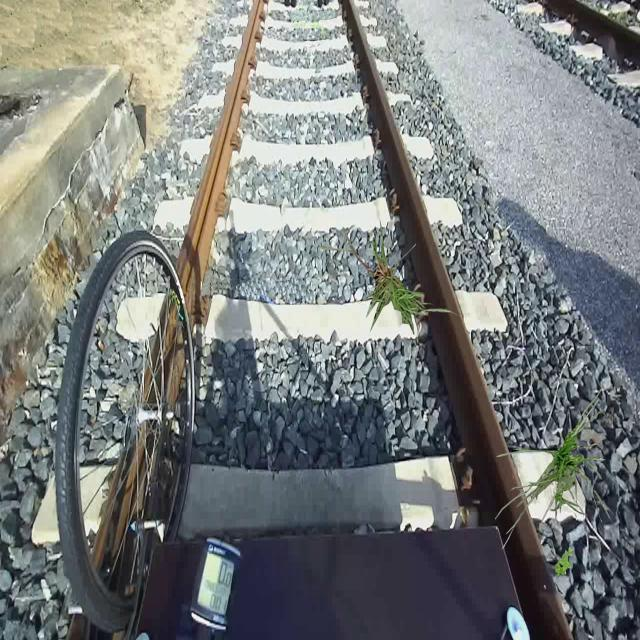Plant: (495, 387, 614, 550), (319, 216, 462, 336), (554, 546, 574, 578)
